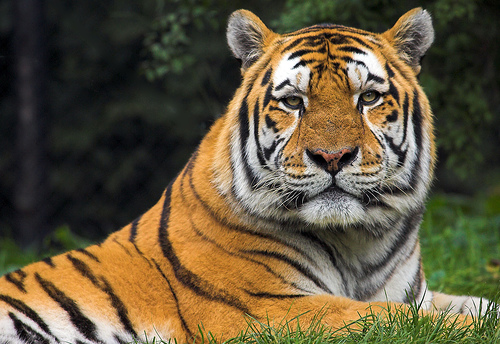Tigre: (199, 10, 483, 328)
